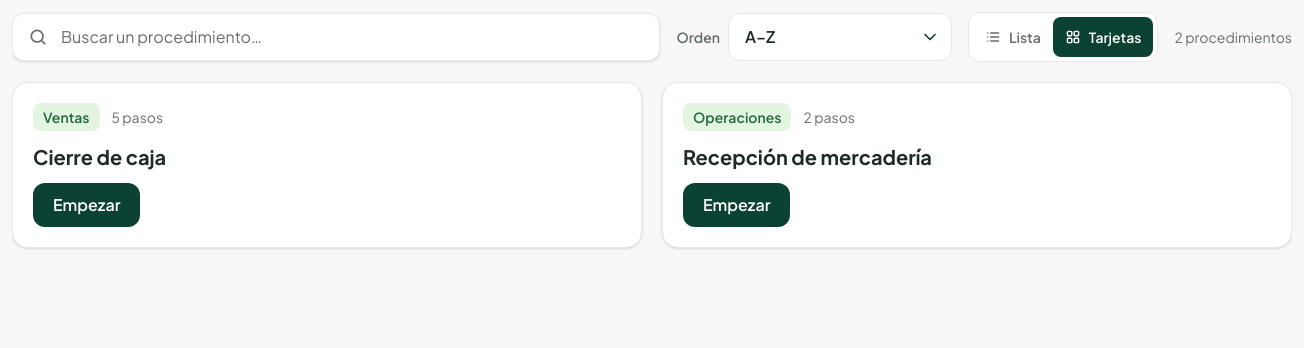
Test case: errors when starting › 503 → service unavailable, and choosing again retries
What coordinates should you click on to do the following:
click the button "Empezar" below "Ventas"
I would click on:
 (87, 205)
Its box is [33,183,140,227].
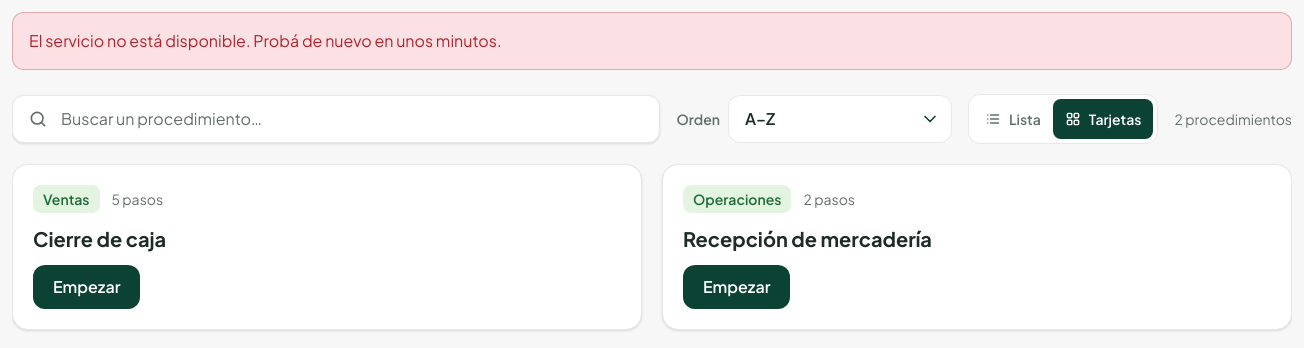
Check: the message reads "El servicio no está disponible. Probá de nuevo en unos minutos.", box [29,30,502,51]
What coordinates should you click on to do the following:
click the button "Empezar" below "Ventas"
I would click on:
 (87, 287)
Its box is [33,265,140,309].
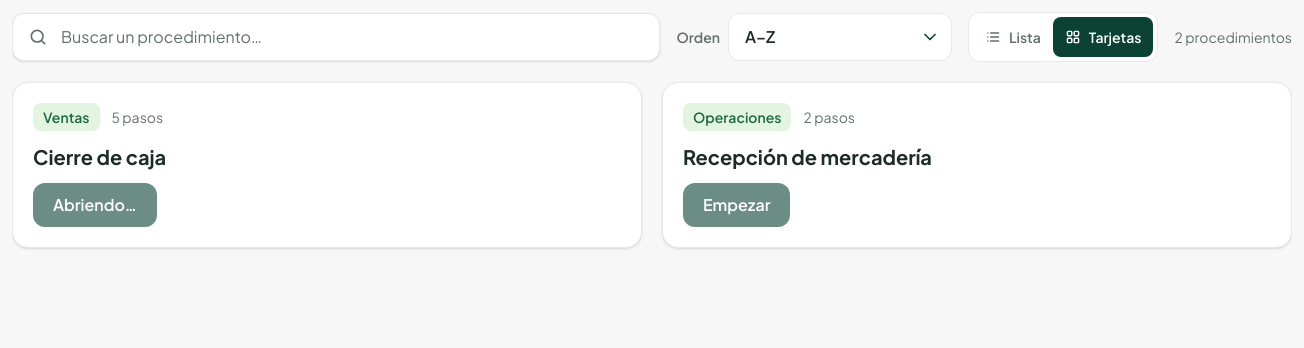
Check: the message "El servicio no está disponible. Probá de nuevo en unos minutos." is gone
